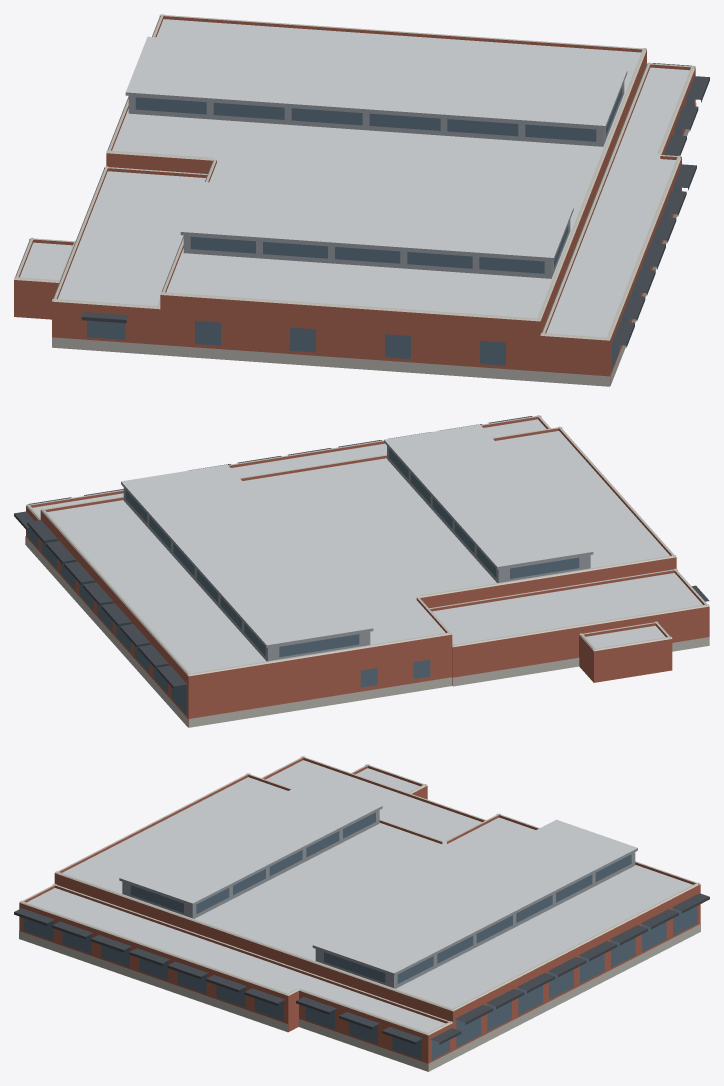
The model's file is detail.glb.
3 renders of one model, top to bottom at view 1: azimuth 30°, elevation 25°; view 2: azimuth 150°, elevation 25°; view 3: azimuth 270°, elevation 25°, orthographic. The views are drawn at different scales.
Visible parts, largest first — view 1: 301-camp-road; view 2: 301-camp-road; view 3: 301-camp-road.
Part boxes in pixels (bbox=[...]): 301-camp-road: bbox=[14, 14, 709, 386]; 301-camp-road: bbox=[14, 415, 709, 727]; 301-camp-road: bbox=[14, 756, 709, 1071].
Bounding box in the file's own units: 95.89 × 10.1 × 100.
